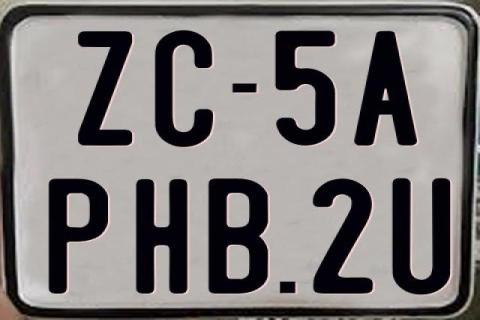0: (311, 176, 375, 296), (272, 28, 336, 146)
A: (354, 29, 419, 145)
B: (205, 178, 267, 294)
C: (153, 28, 212, 150)
H: (135, 177, 189, 291)
P: (49, 178, 108, 298)
U: (390, 176, 448, 292)
Z: (78, 30, 137, 148)
